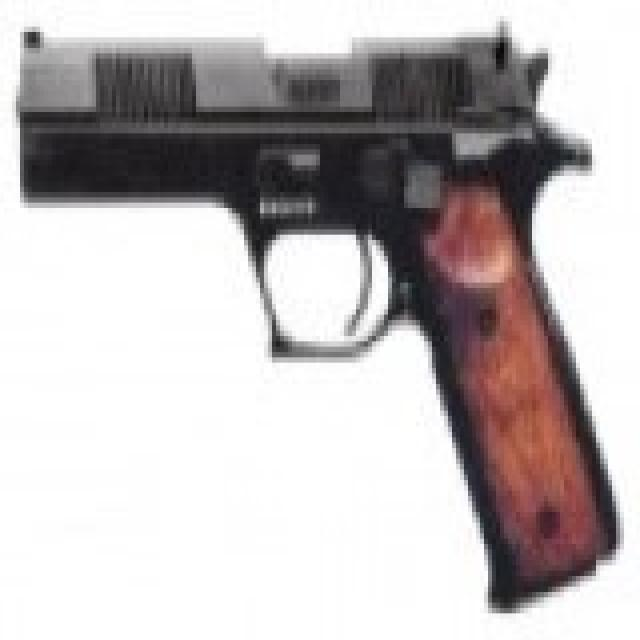Gun: (18, 14, 632, 595)
